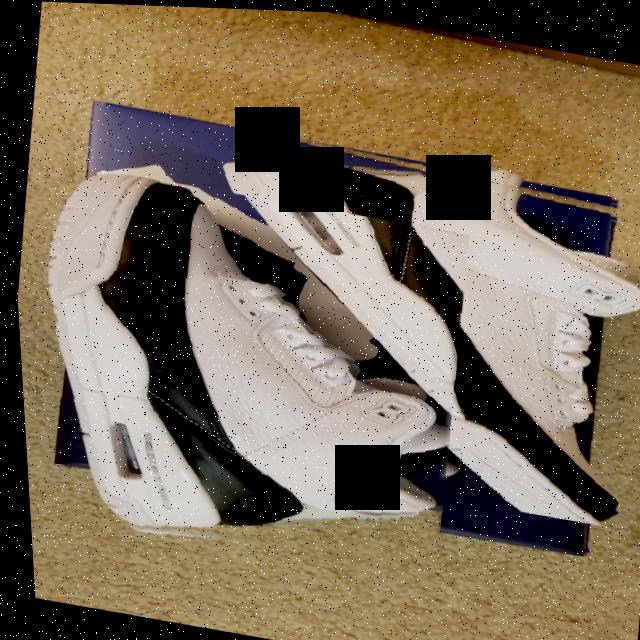shoe: (7, 160, 483, 586), (180, 119, 640, 529)
